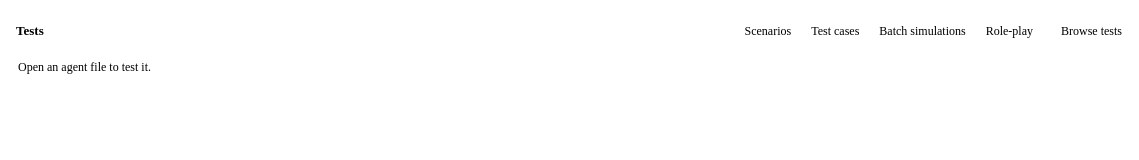
selects Batch simulations and returns to Test cases before opening an agent
Click the button "Batch simulations" at (922,31), box x1=869 y1=16 x2=976 y2=46
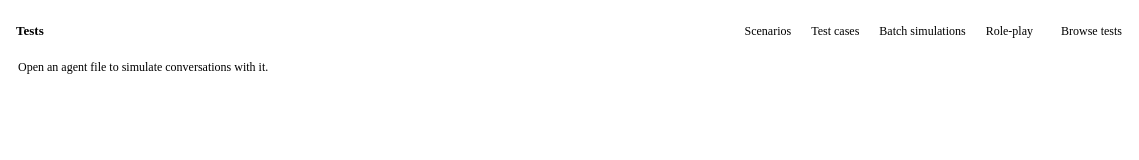
Expected: the text "Open an agent file to simulate conversations with it." is shown, x1=18 y1=60 x2=268 y2=74
Click the button "Test cases" at (835,31), box x1=801 y1=16 x2=869 y2=46
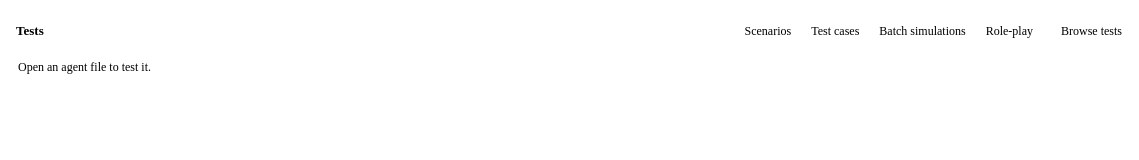
Expected: the text "Open an agent file to test it." is shown, x1=18 y1=60 x2=151 y2=74
